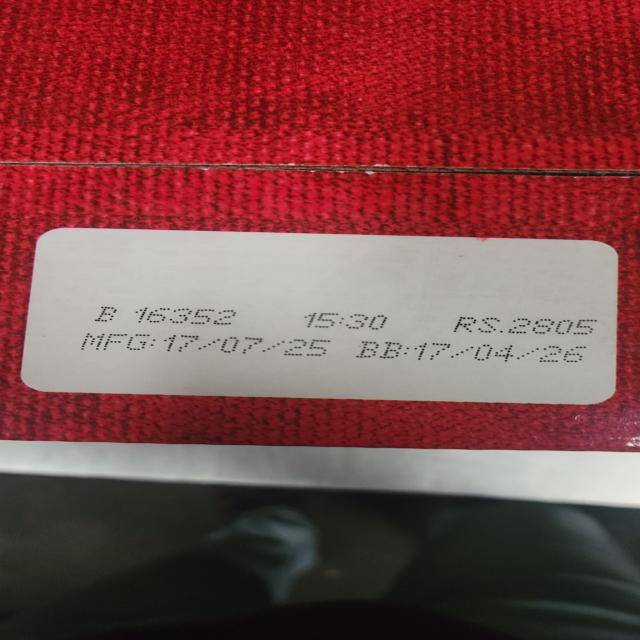BB: (358, 336, 588, 367)
Batch: (93, 299, 252, 329)
MFG: (80, 329, 335, 362)
RS: (450, 310, 601, 338)
TimeStamp: (302, 307, 396, 333)
